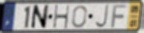1: (23, 5, 32, 29)
F: (110, 4, 129, 29)
H: (52, 4, 71, 30)
J: (94, 5, 110, 29)
N: (30, 4, 50, 31)
O: (71, 5, 88, 29)
